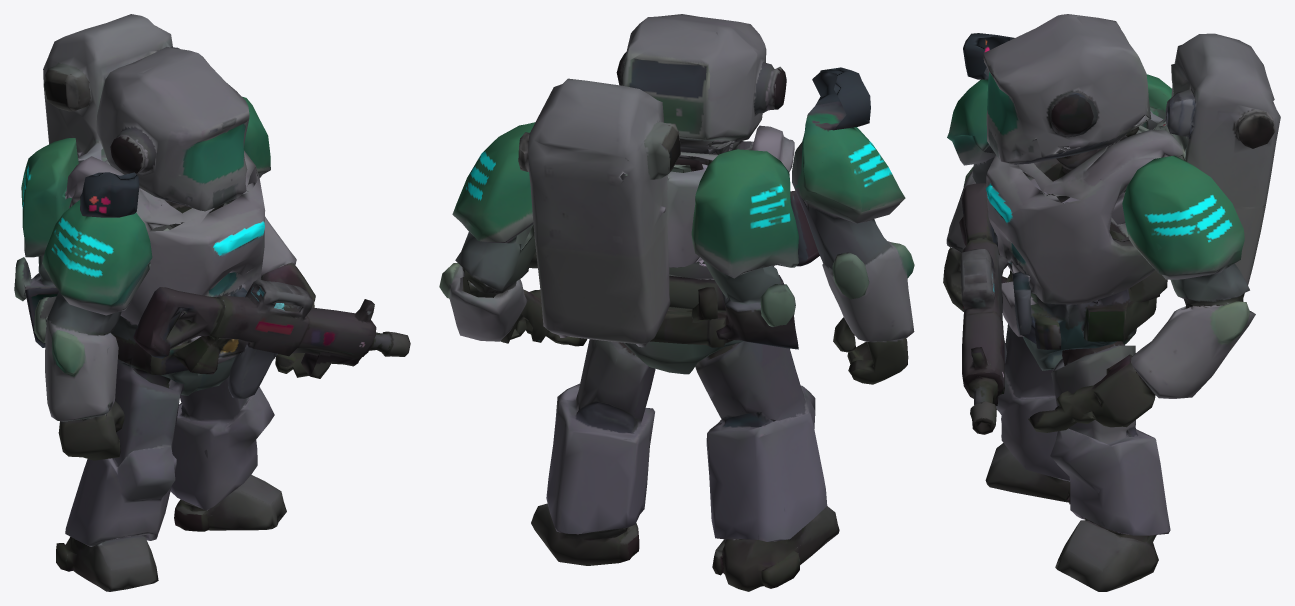
File: cybermarine-web.glb
The picture shows the model from 3 angles, left to right: view 1: azimuth 30°, elevation 25°; view 2: azimuth 150°, elevation 25°; view 3: azimuth 270°, elevation 25°; orthographic projection. The views are drawn at different scales.
Size of the model in its own units: 0.6981 by 0.9235 by 0.5598.
Materials: 1 (1 with a texture image).
